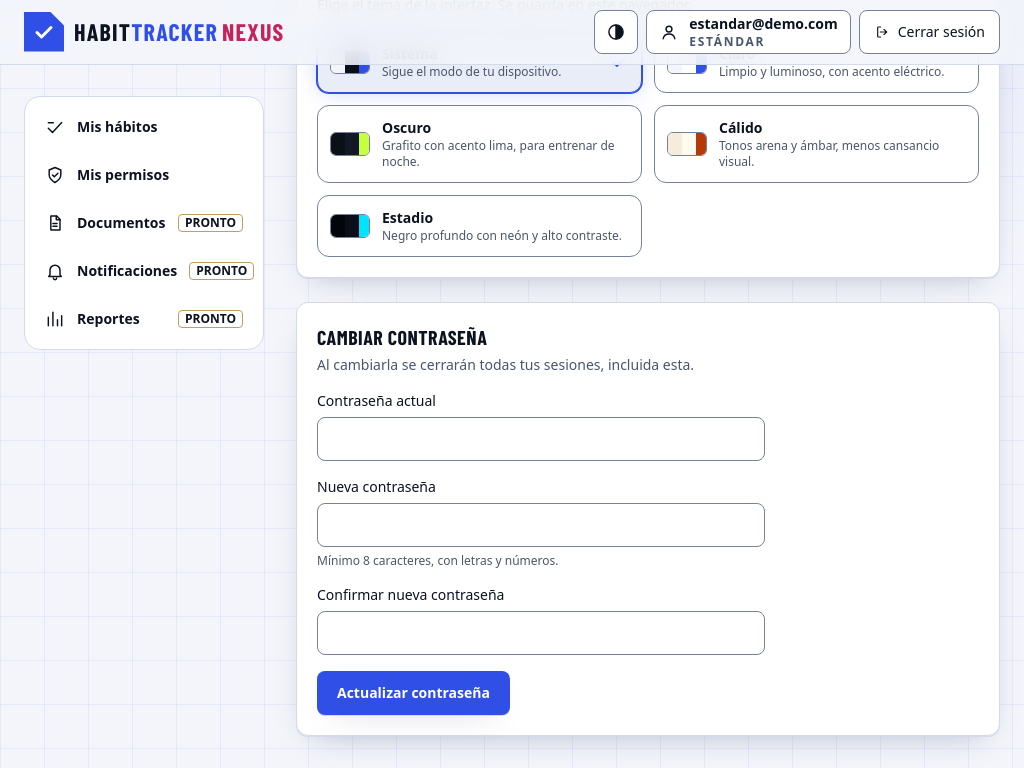
Scenario: flujos de cuenta › cambiar la contraseña cierra la sesión (RF-CA-12)
(page scrolled)
In the password field labelled "Contraseña actual": [541, 439] box [317,417,765,461], type "Demo1234"
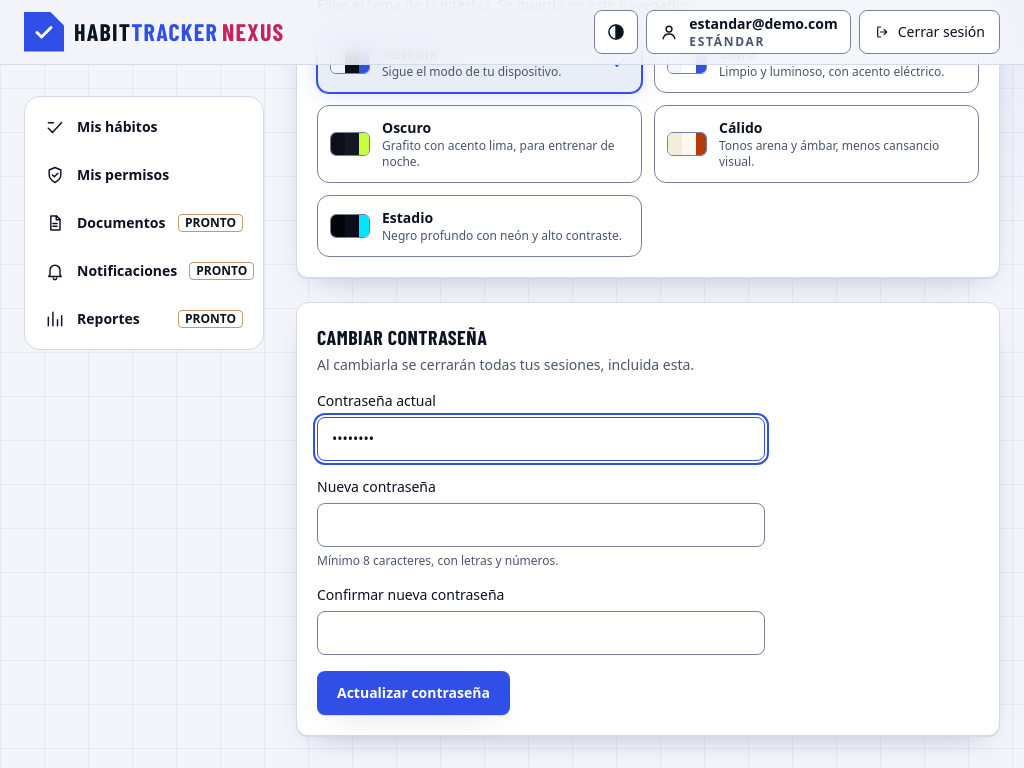
In the password field labelled "Nueva contraseña": [541, 525] box [317,503,765,547], type "OtraClave7"
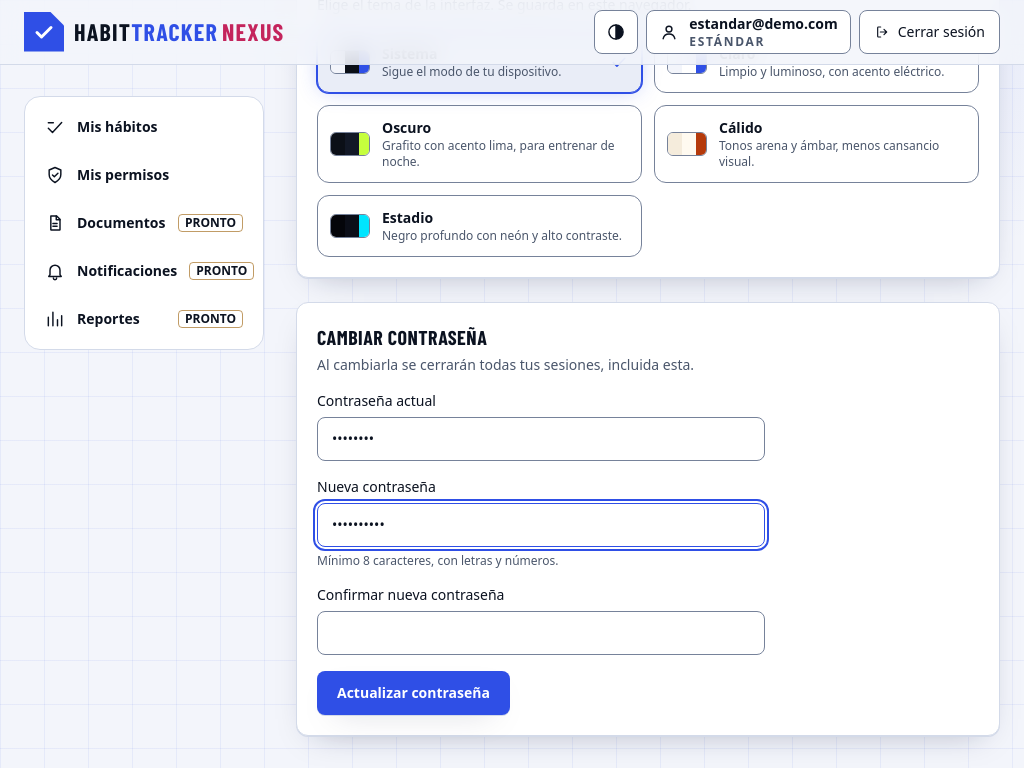
In the password field labelled "Confirmar nueva contraseña": [541, 633] box [317,611,765,655], type "OtraClave7"
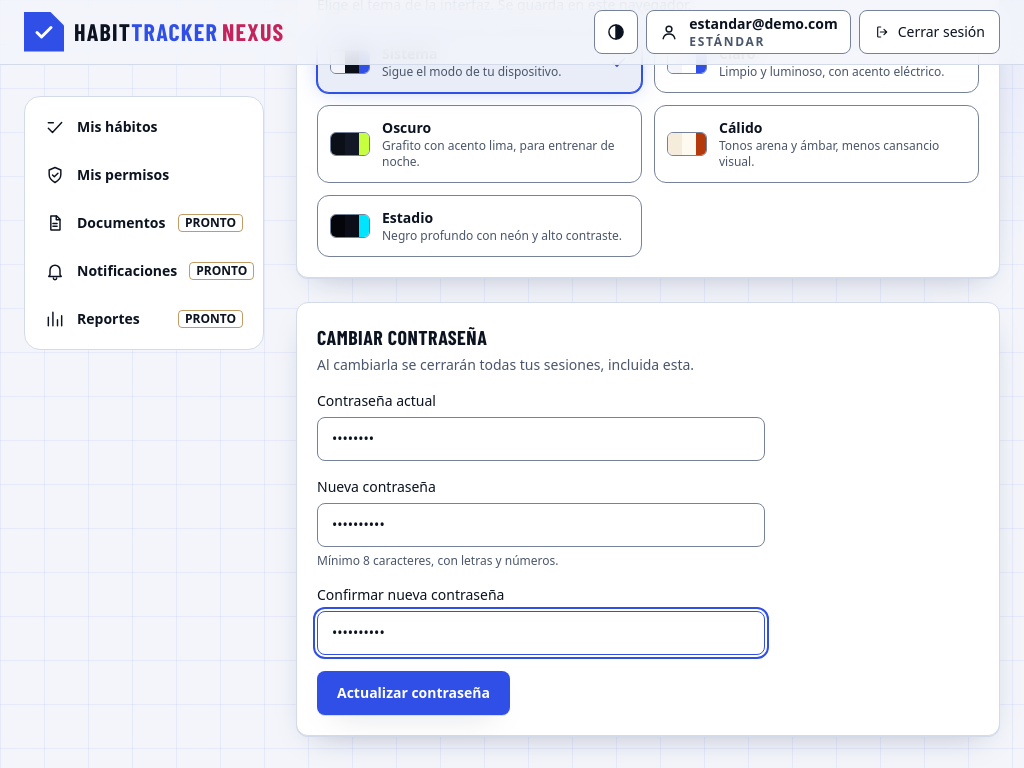
Click the button "Actualizar contraseña": [414, 693] box [317,671,510,715]
(page scrolled)
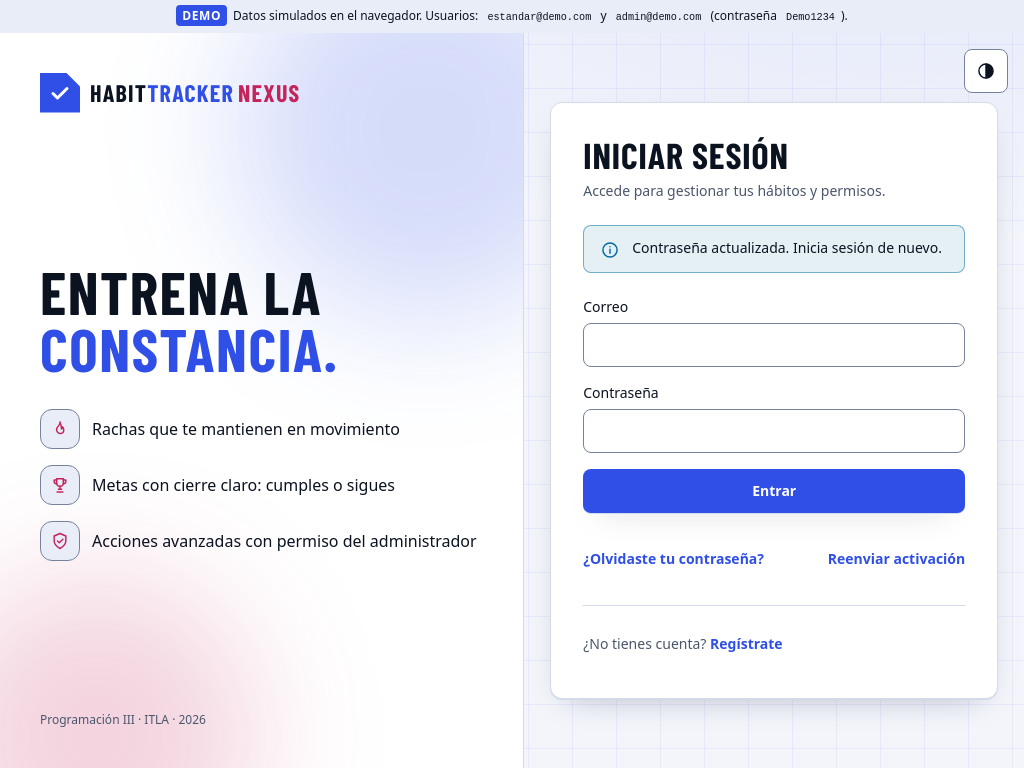
Expected: the text "Contraseña actualizada. Inicia sesión de nuevo." is shown, [632,238,942,258]
